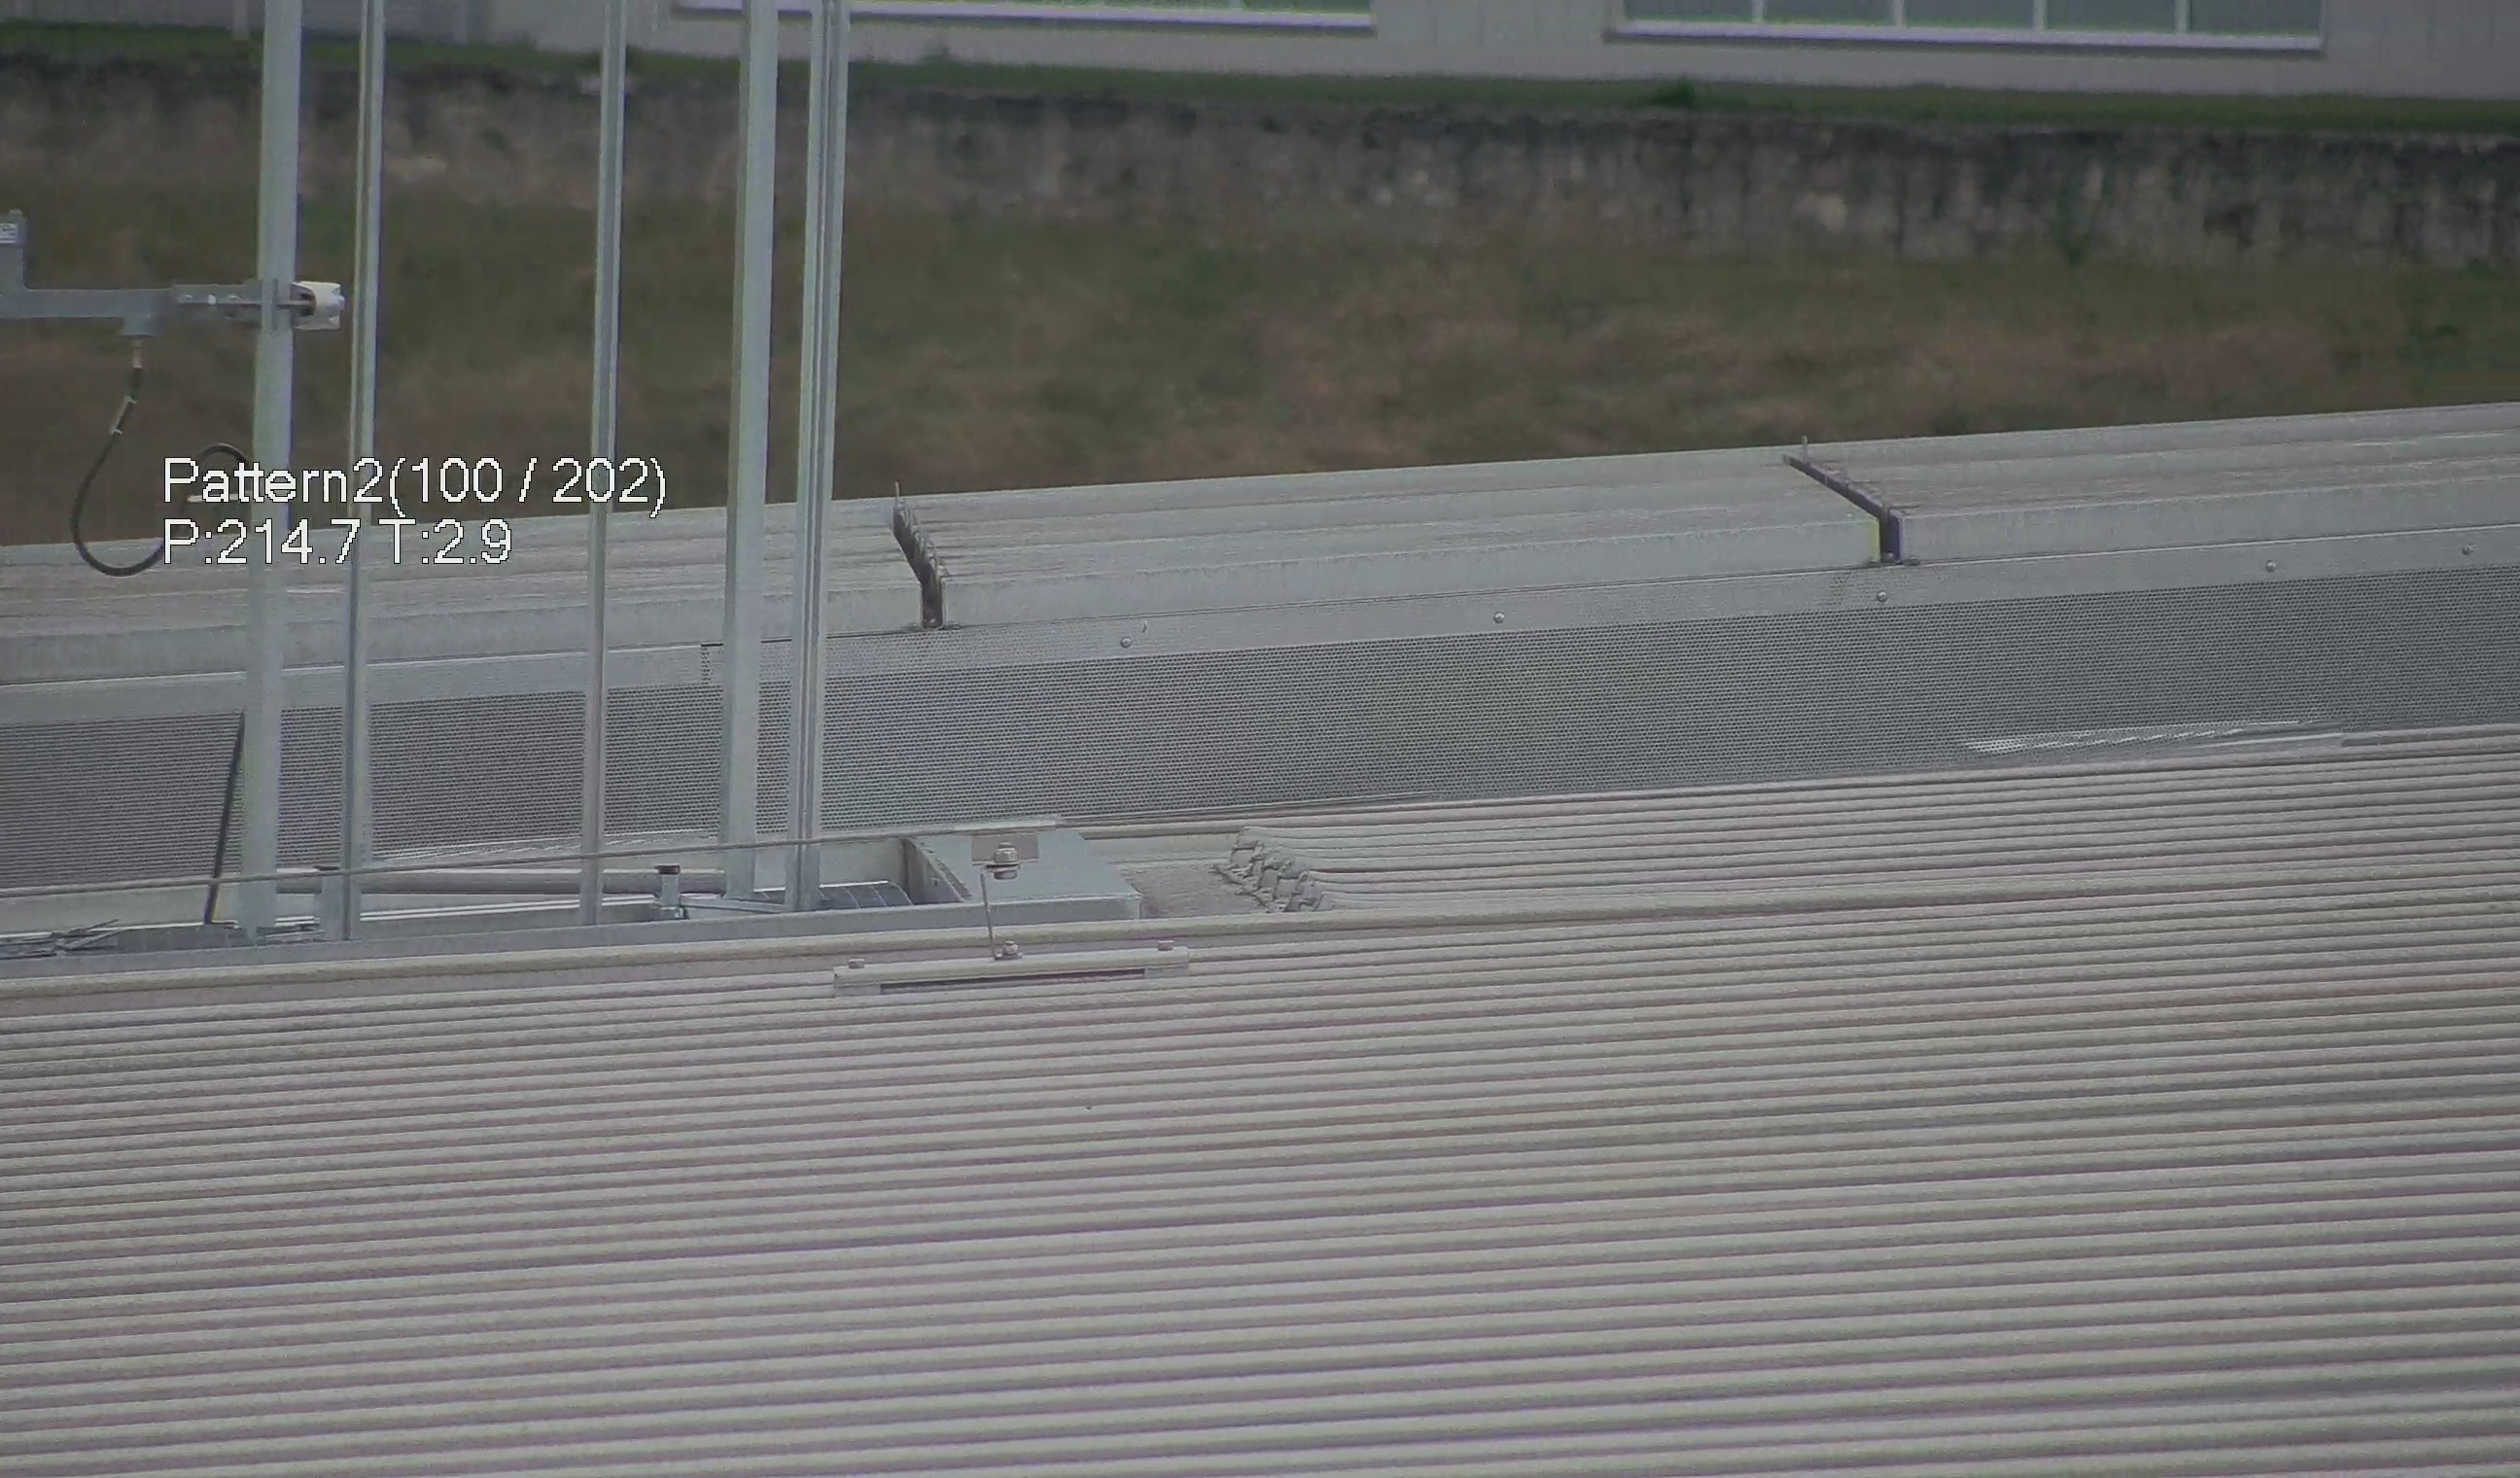Other: (862, 487, 955, 633)
